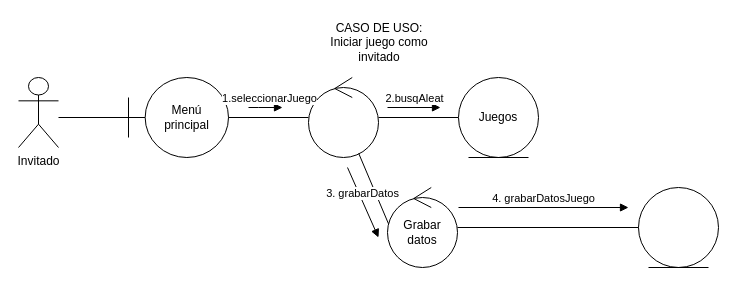
Some shapes in this 736 by 285 pixel diagram are drawn without their labels. Each missing label, with the box of its shape:
Estadisticas juego: (638, 186, 718, 268)
Gestión juegos: (308, 76, 378, 158)
